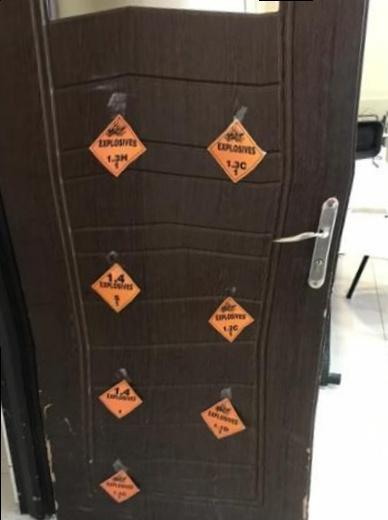explosive: (201, 108, 267, 189), (86, 108, 151, 185), (88, 258, 143, 318), (205, 293, 259, 349), (91, 375, 147, 423), (198, 393, 247, 444), (96, 464, 143, 509)
